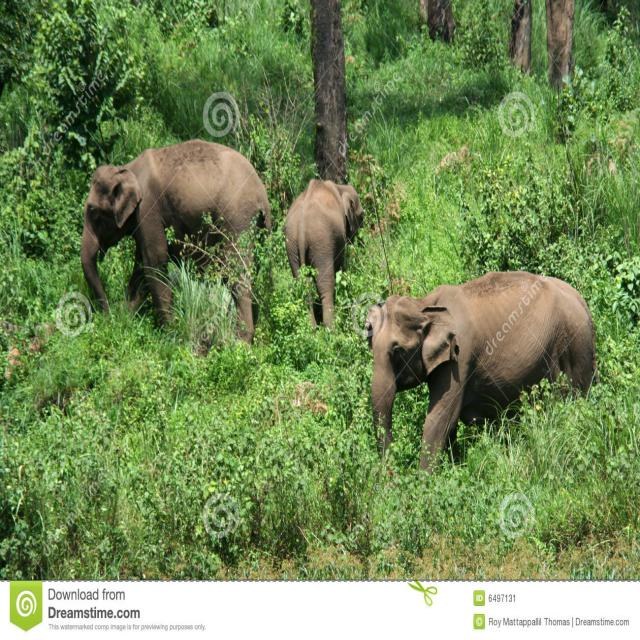Elephant: (361, 263, 600, 471), (76, 129, 276, 340), (288, 163, 366, 325)
